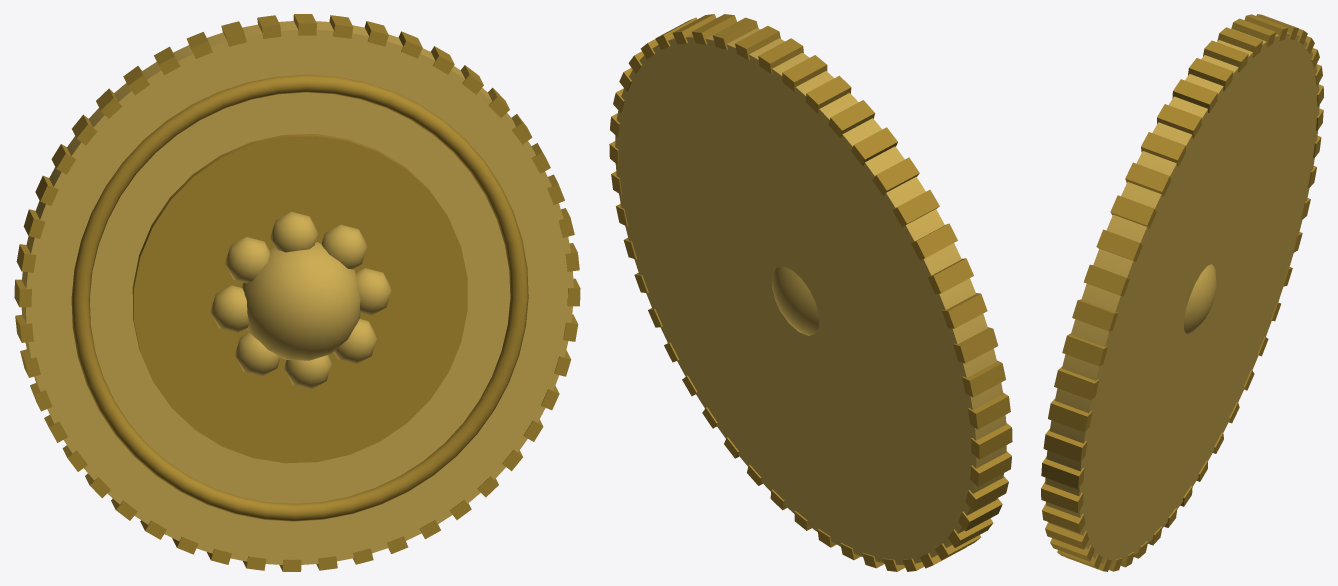
Rendered from gold_coin.glb.
The picture shows the model from 3 angles, left to right: view 1: azimuth 30°, elevation 25°; view 2: azimuth 150°, elevation 25°; view 3: azimuth 270°, elevation 25°; orthographic projection. The views are drawn at different scales.
Size of the model in its own units: 1.75 by 1.83 by 0.9025.
